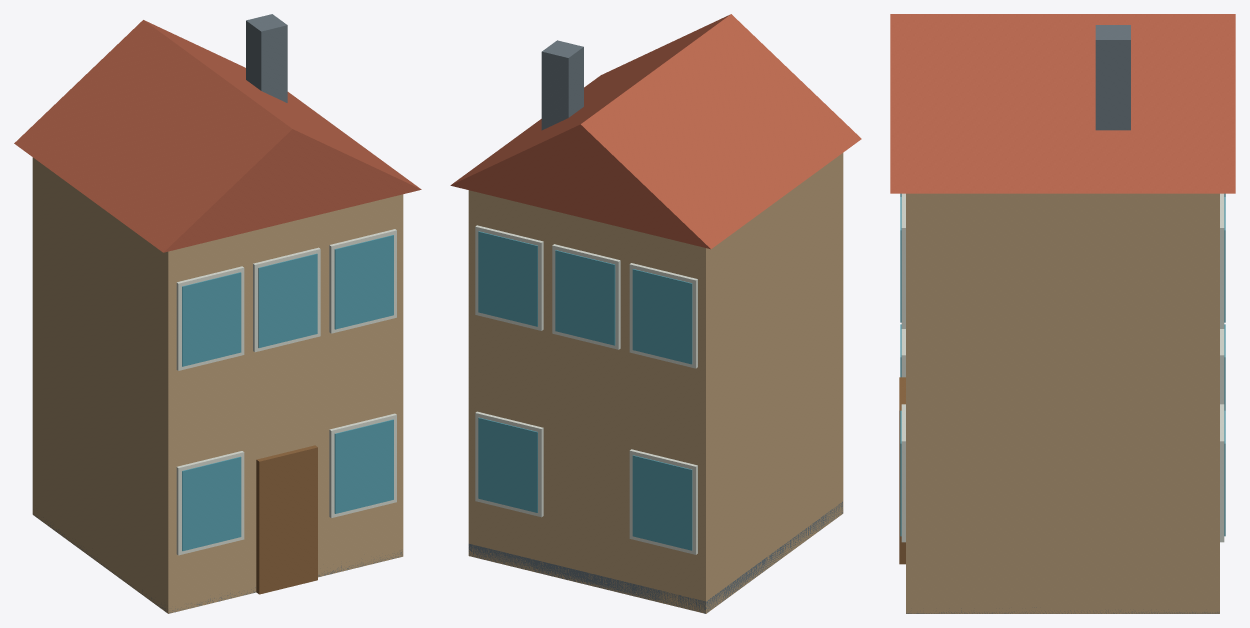
Rendered from house-medium.glb.
The picture shows the model from 3 angles, left to right: view 1: azimuth 30°, elevation 25°; view 2: azimuth 150°, elevation 25°; view 3: azimuth 270°, elevation 25°; orthographic projection. The views are drawn at different scales.
Visible parts, largest first — view 1: Building wall volume 001, Pitched roof 024, Entry door 023, Window blue glazing 004, Window blue glazing 012, Window blue glazing 016, Window blue glazing 020, Window blue glazing 008, Chimney 025, Window trim 011, Window trim 003, Window trim 015 (+2 smaller); view 2: Building wall volume 001, Pitched roof 024, Window blue glazing 006, Window blue glazing 014, Window blue glazing 018, Window blue glazing 010, Window blue glazing 022, Plinth 002, Chimney 025, Window trim 005, Window trim 013, Window trim 017 (+2 smaller); view 3: Building wall volume 001, Pitched roof 024, Chimney 025, Window trim 007, Window trim 009, Window trim 019, Window trim 021, Entry door 023.
Part boxes in pixels (x1,y1,x2,y2): Building wall volume 001: (32,157,403,613); Pitched roof 024: (14,20,421,252); Entry door 023: (256,445,317,594); Window blue glazing 004: (182,456,241,551); Window blue glazing 012: (182,272,241,366); Window blue glazing 016: (258,253,317,347); Window blue glazing 020: (334,235,393,329); Window blue glazing 008: (334,419,393,513); Chimney 025: (246,14,287,102); Window trim 011: (176,266,244,370); Window trim 003: (176,451,244,555); Window trim 015: (253,247,320,352); Building wall volume 001: (468,153,843,613); Pitched roof 024: (450,14,861,249); Window blue glazing 006: (632,455,692,550); Window blue glazing 014: (632,269,692,364); Window blue glazing 018: (555,250,615,345); Window blue glazing 010: (478,417,537,512); Window blue glazing 022: (478,231,537,326); Plinth 002: (468,501,842,613); Chimney 025: (541,40,583,130); Window trim 005: (629,449,697,554); Window trim 013: (629,263,697,368); Window trim 017: (552,244,620,349); Building wall volume 001: (906,193,1219,613); Pitched roof 024: (890,14,1235,193); Chimney 025: (1095,25,1130,130); Window trim 007: (901,404,905,542); Window trim 009: (1220,404,1224,542); Window trim 019: (901,193,905,328); Window trim 021: (1220,193,1224,328); Entry door 023: (899,377,905,564).
Bounding box in the file's own units: 4.4 × 7.8 × 4.4.
6 materials, 6 textured.
